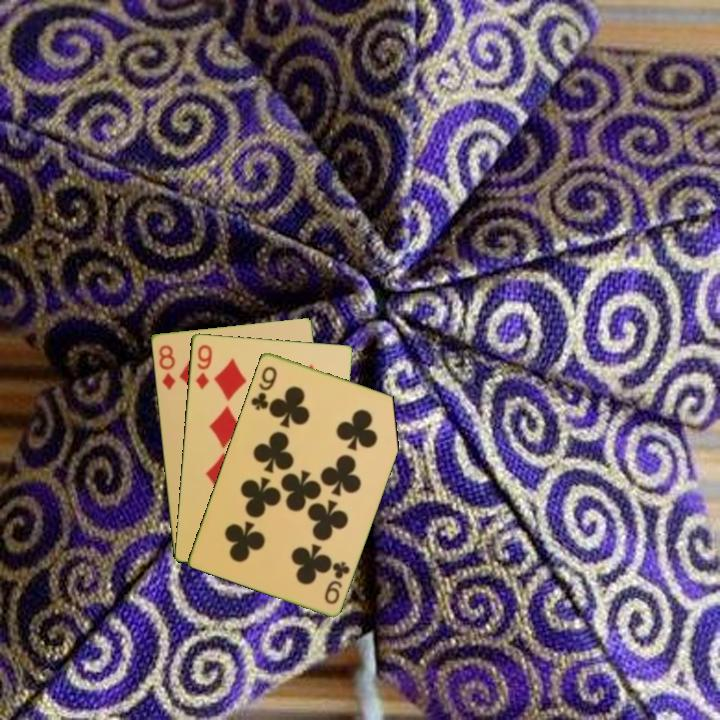8d: (155, 341, 178, 392)
9c: (247, 362, 280, 413), (320, 557, 353, 607)
9d: (191, 341, 215, 392)
